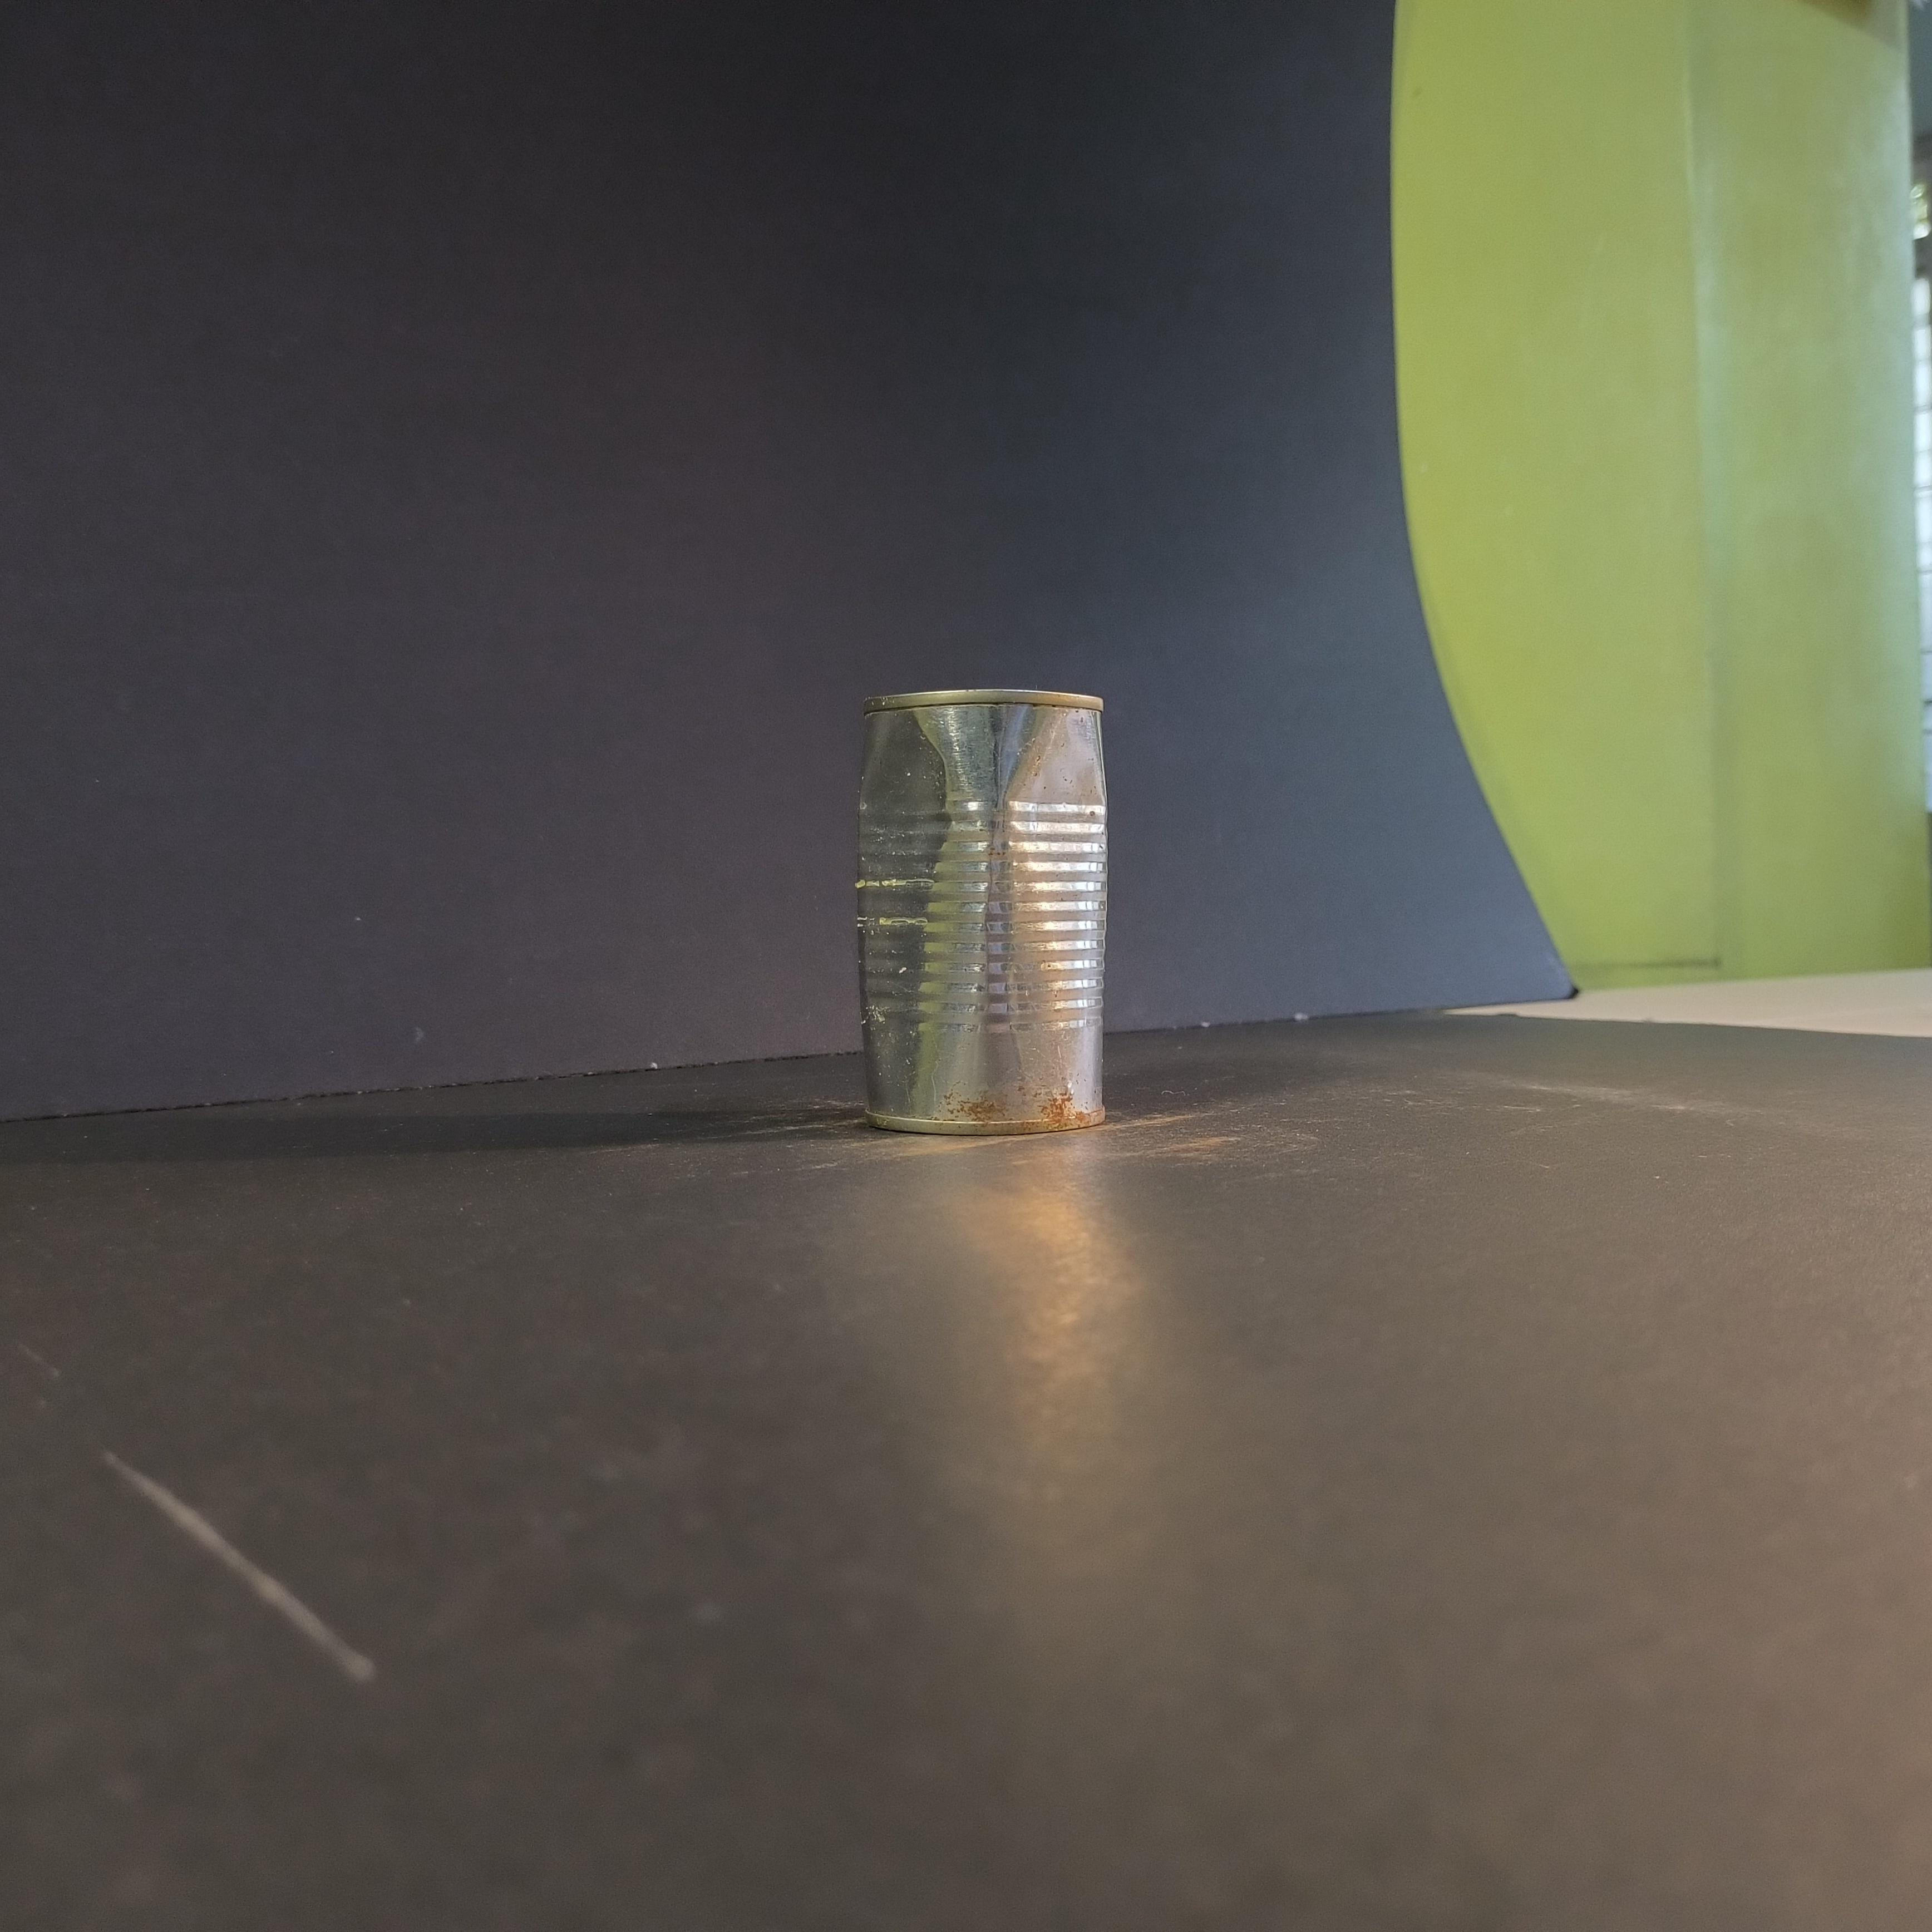Dented: (835, 665, 1152, 1161)
